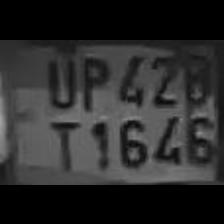1: (82, 112, 112, 170)
2: (144, 47, 180, 105)
4: (113, 45, 148, 105), (148, 108, 180, 166)
6: (180, 108, 216, 164), (113, 112, 148, 168)
B: (180, 46, 212, 102)
P: (75, 47, 112, 111)
T: (44, 114, 82, 172)
U: (40, 49, 78, 107)
